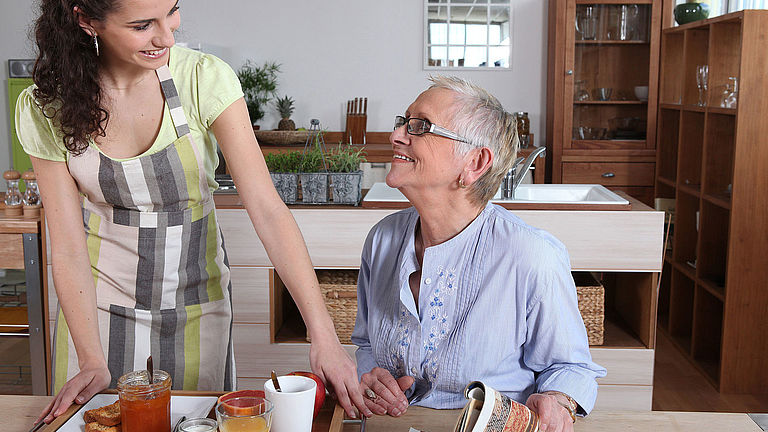without_mask: (118, 2, 184, 70), (382, 109, 441, 185)
